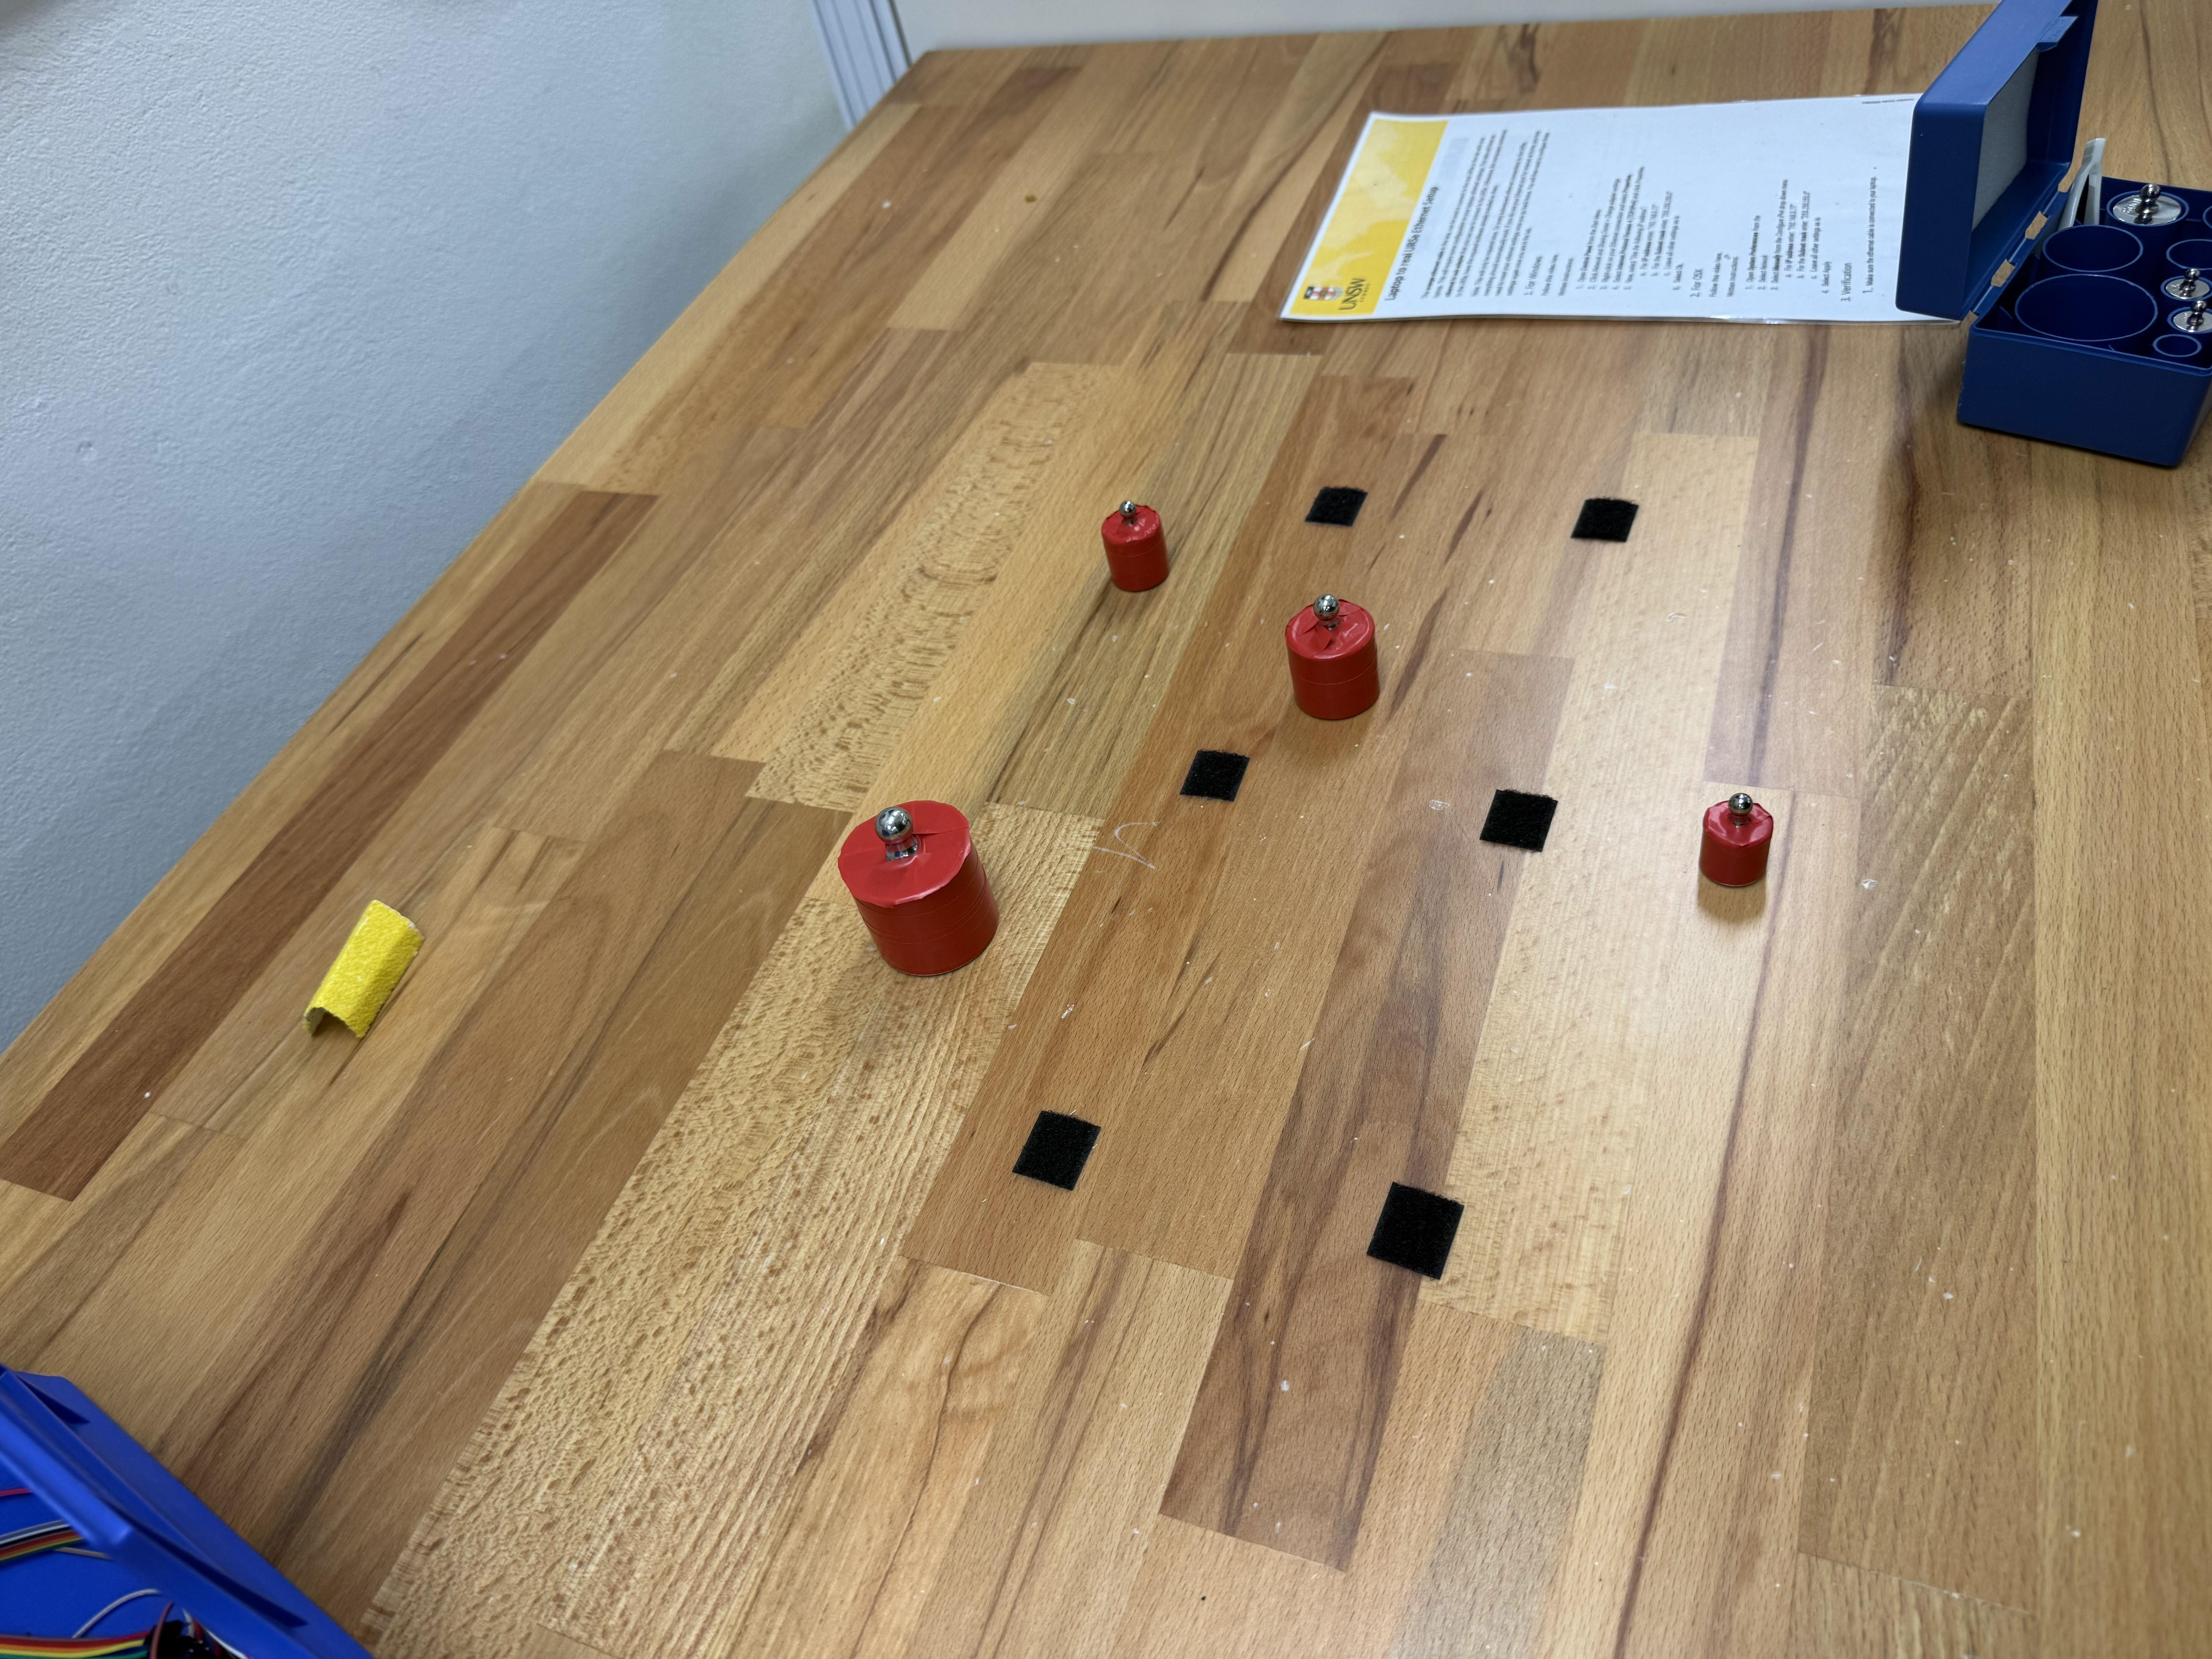red_object: (826, 795, 1005, 985), (1282, 573, 1383, 721), (1688, 782, 1780, 901), (1092, 488, 1179, 594)
